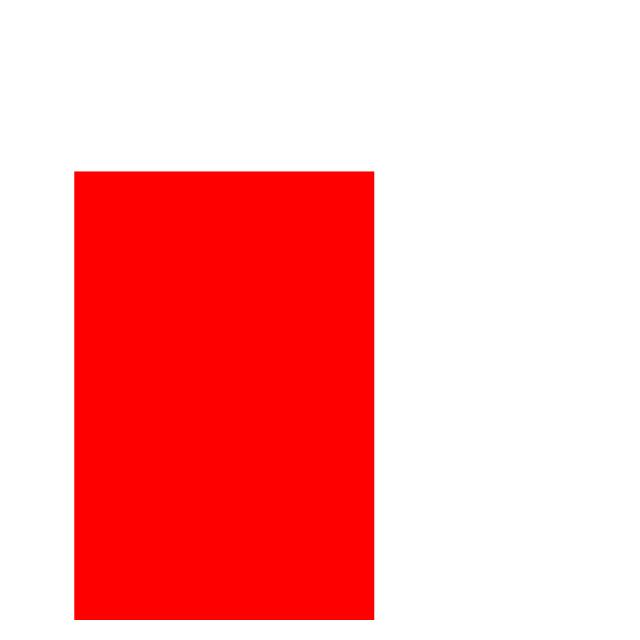Rectangle: (54, 143, 443, 640)
